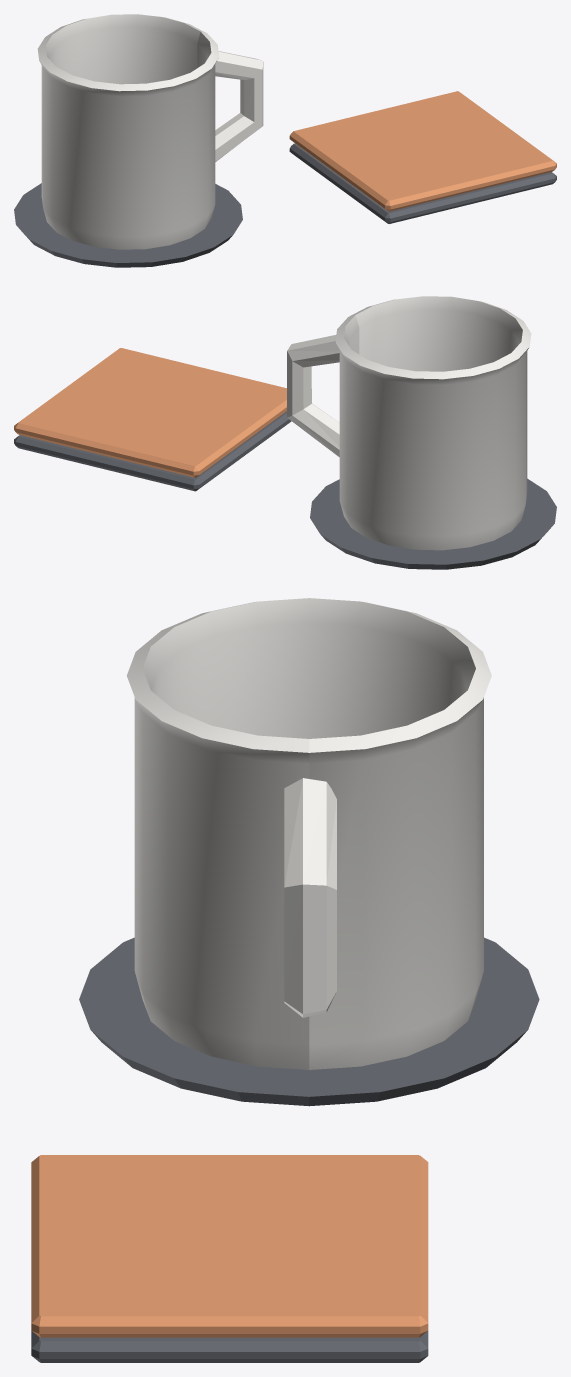
The model's file is downtown-office-interiors-mug-and-coaster-set-8bb45c9e__17065.glb.
3 views of the same model, one above another, from view 1: azimuth 30°, elevation 25°; view 2: azimuth 150°, elevation 25°; view 3: azimuth 270°, elevation 25° (orthographic). The views are drawn at different scales.
Parts seen in each view (by area): view 1: mug-and-coaster-set; view 2: mug-and-coaster-set; view 3: mug-and-coaster-set.
Part boxes in pixels (box(x1,y1,x2,y2)): mug-and-coaster-set: box(14, 14, 556, 267); mug-and-coaster-set: box(14, 296, 556, 569); mug-and-coaster-set: box(31, 598, 539, 1362).
Size of the model in its own units: 0.268 by 0.096 by 0.128.
